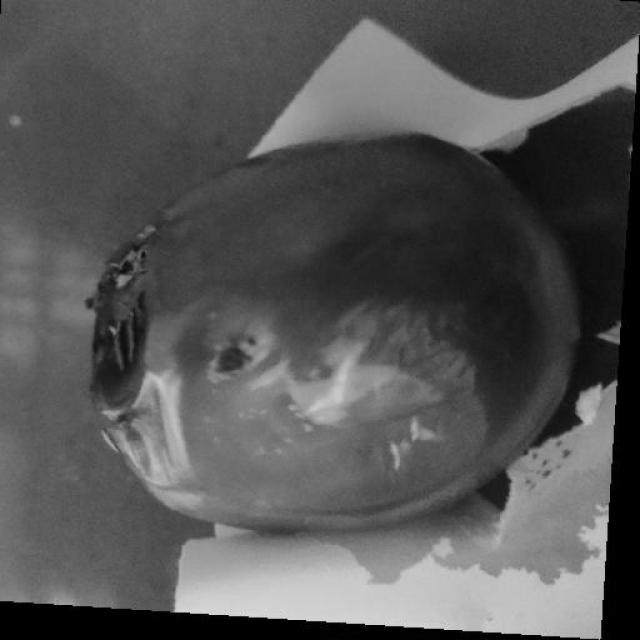Stale_tomato: (69, 190, 640, 564)
